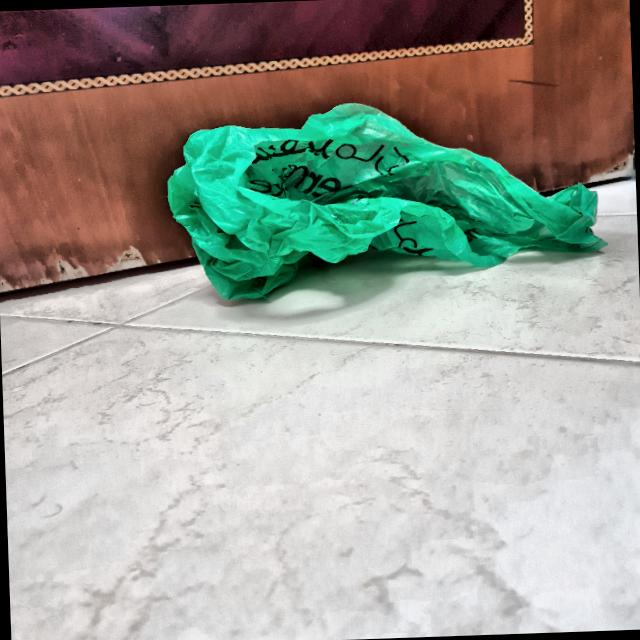plastic bag: (175, 100, 612, 310)
